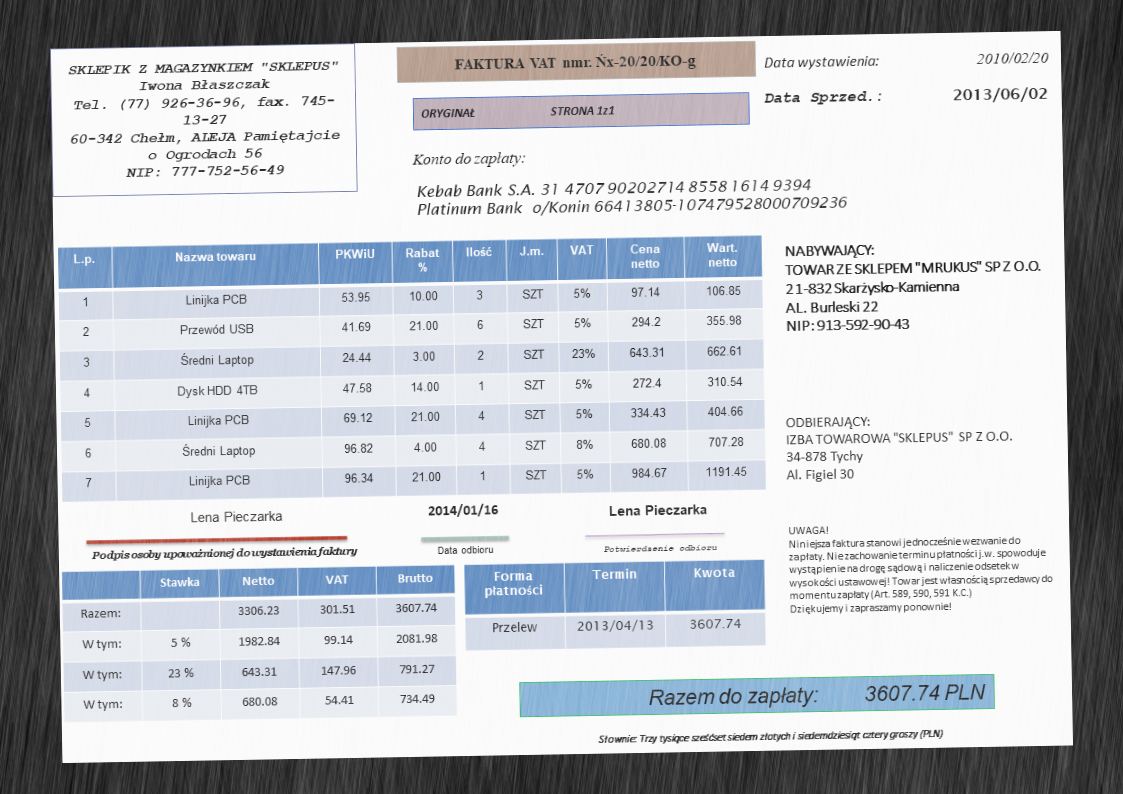Table: (55, 233, 768, 503), (60, 564, 458, 724), (463, 559, 768, 652)
TextBox: (65, 54, 344, 181), (785, 519, 1054, 618), (782, 238, 1045, 336), (415, 174, 850, 219), (783, 410, 1014, 484), (644, 680, 989, 710), (597, 724, 943, 747), (452, 50, 698, 76), (89, 543, 360, 565), (418, 102, 617, 122), (410, 148, 527, 171), (764, 87, 884, 108), (762, 52, 880, 70), (605, 500, 708, 520), (951, 84, 1048, 103), (602, 540, 718, 555), (188, 507, 284, 525), (425, 502, 501, 519), (974, 49, 1049, 66), (436, 542, 495, 558)
